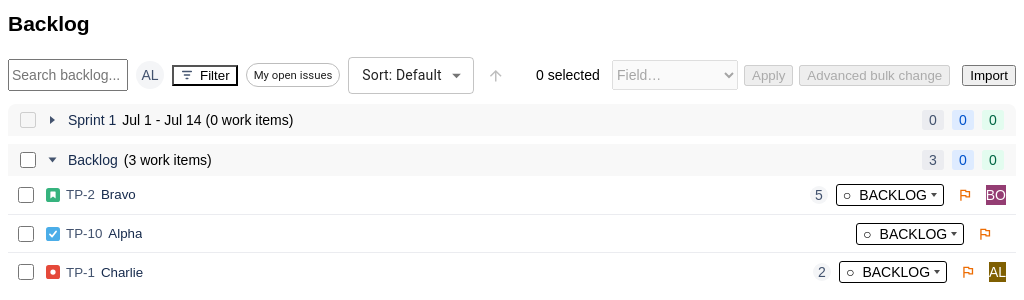
JL-234 — Backlog sort control › disables the direction toggle while default ordering is active
Check: the button named "Sort direction" is disabled, box [482,62,510,89]
Select "Key" in the dropdown named "Sort by" at point(411, 75), box [348,57,474,94]
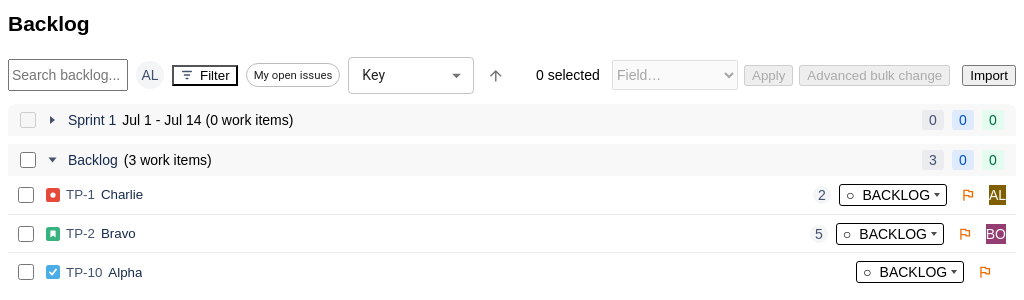
Check: the button named "Sort direction" is enabled, box [482,62,510,89]
